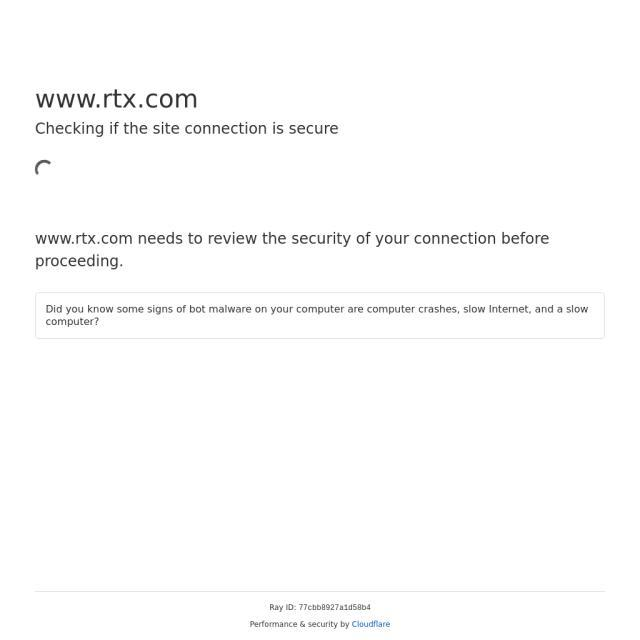link: (26, 89, 202, 115), (30, 230, 134, 247)
